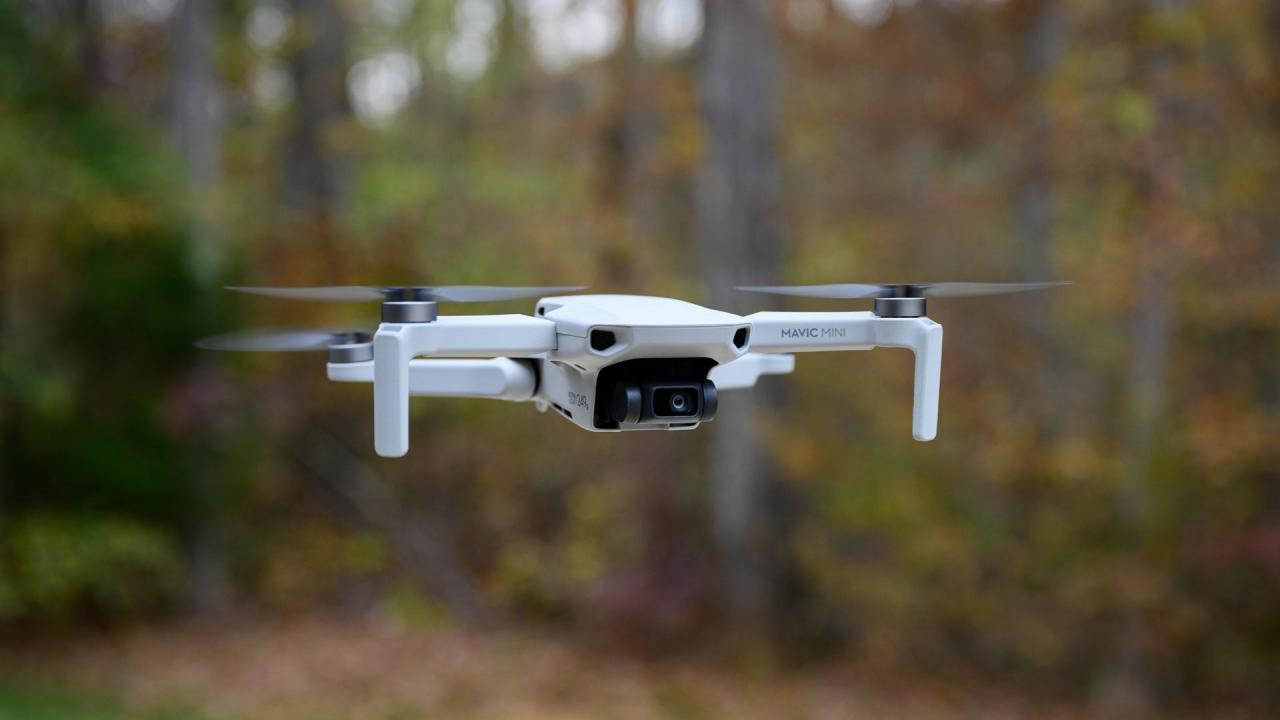Drone: (158, 202, 1113, 486)
